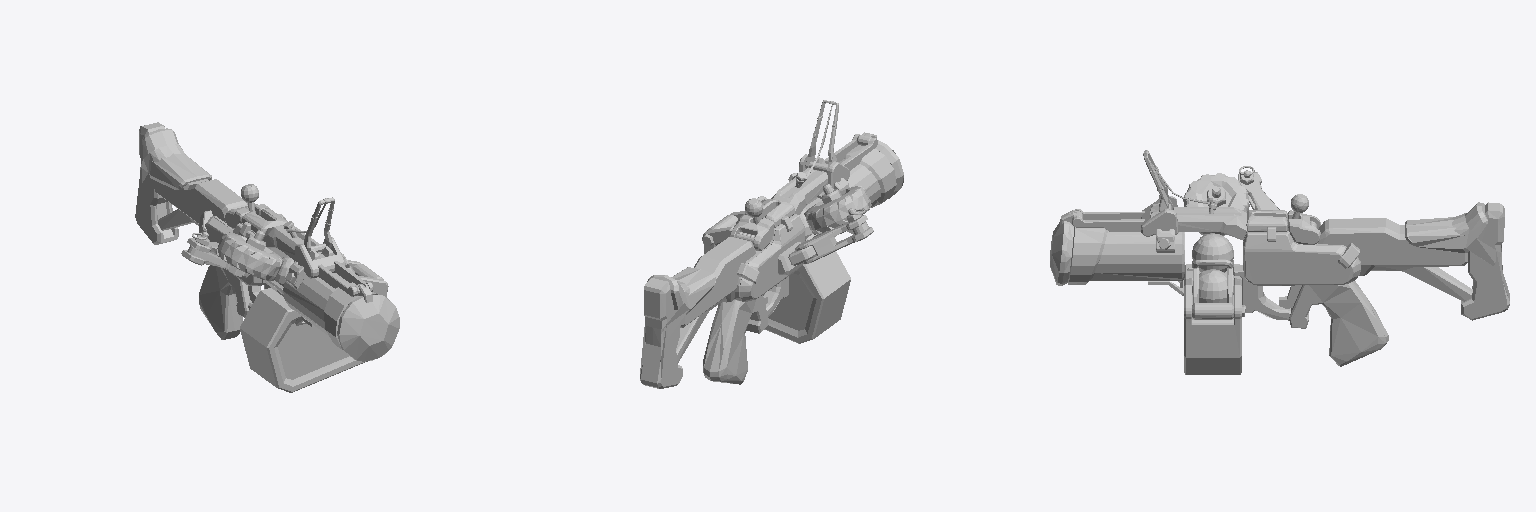
The model's file is junkrat_weapon.obj.
3 views of the same model, side by side, from view 1: azimuth 30°, elevation 25°; view 2: azimuth 150°, elevation 25°; view 3: azimuth 270°, elevation 25° (orthographic).
Parts seen in each view (by area): view 1: Submesh_14.1.B4A12BBA474C141C.001; view 2: Submesh_14.1.B4A12BBA474C141C.001; view 3: Submesh_14.1.B4A12BBA474C141C.001.
Boxes of the visible parts, <box> form: Submesh_14.1.B4A12BBA474C141C.001: <box>135,122,399,392</box>; Submesh_14.1.B4A12BBA474C141C.001: <box>640,100,903,388</box>; Submesh_14.1.B4A12BBA474C141C.001: <box>1050,150,1509,374</box>.
Bounding box in the file's own units: 0.3213 × 0.3768 × 0.7441.